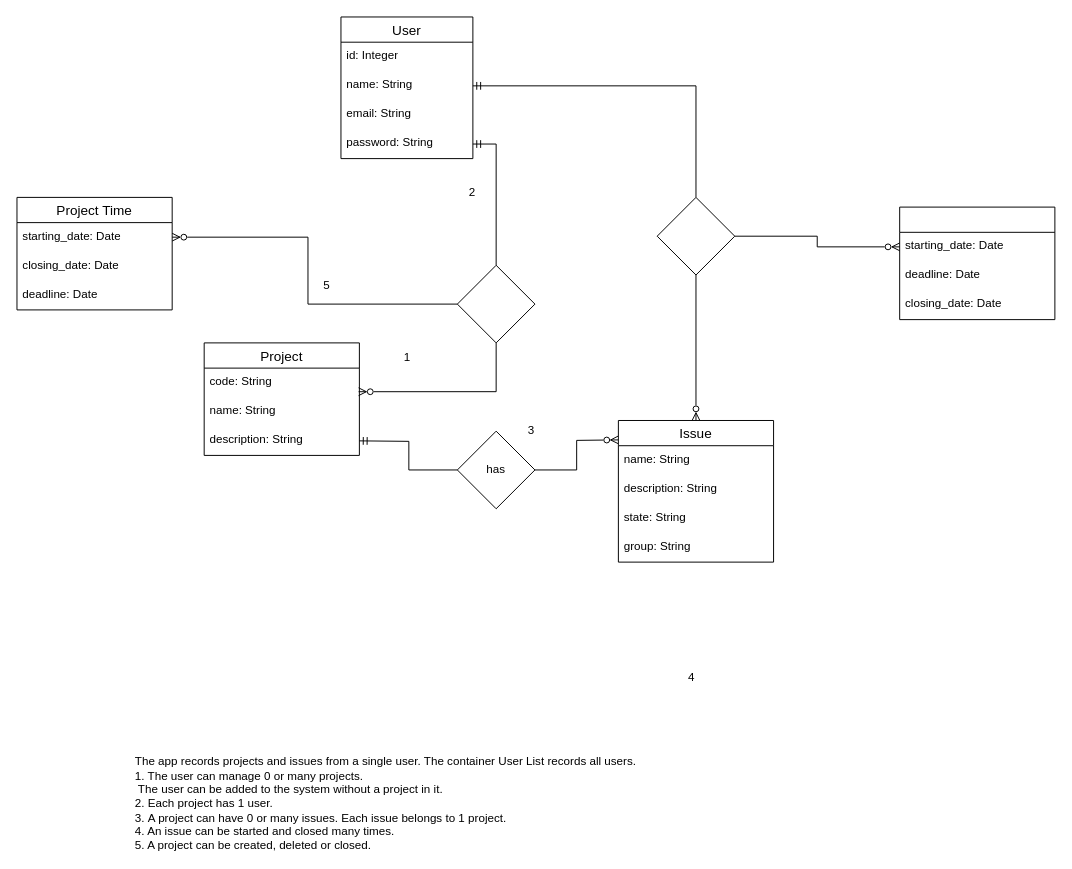
The diagram is 1072 pixels wide and 869 high, and some of its shapes have lost their labels. Here are the shapes that lost their labels. From the top down, the box of each, then its label:
(656, 196, 735, 275): manageIssue
(899, 206, 1055, 320): Issue Time
(456, 264, 535, 343): manageProject
